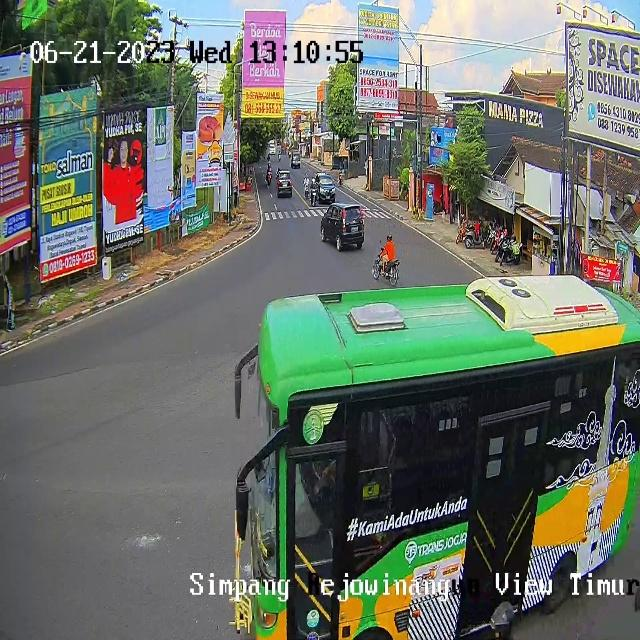bus: (372, 245, 400, 286), (311, 187, 317, 206), (304, 182, 310, 199), (266, 171, 272, 185), (338, 174, 344, 186)
car: (248, 275, 640, 640)
motorcycle: (320, 203, 364, 251), (314, 172, 336, 202), (276, 170, 293, 197)
